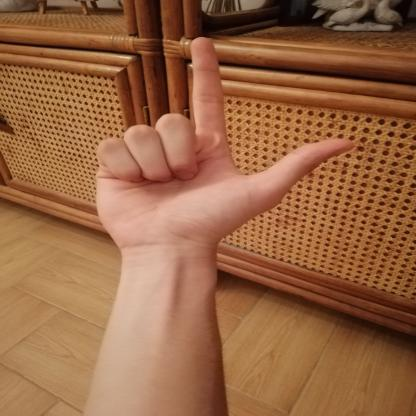LAAM: (72, 23, 366, 263)
